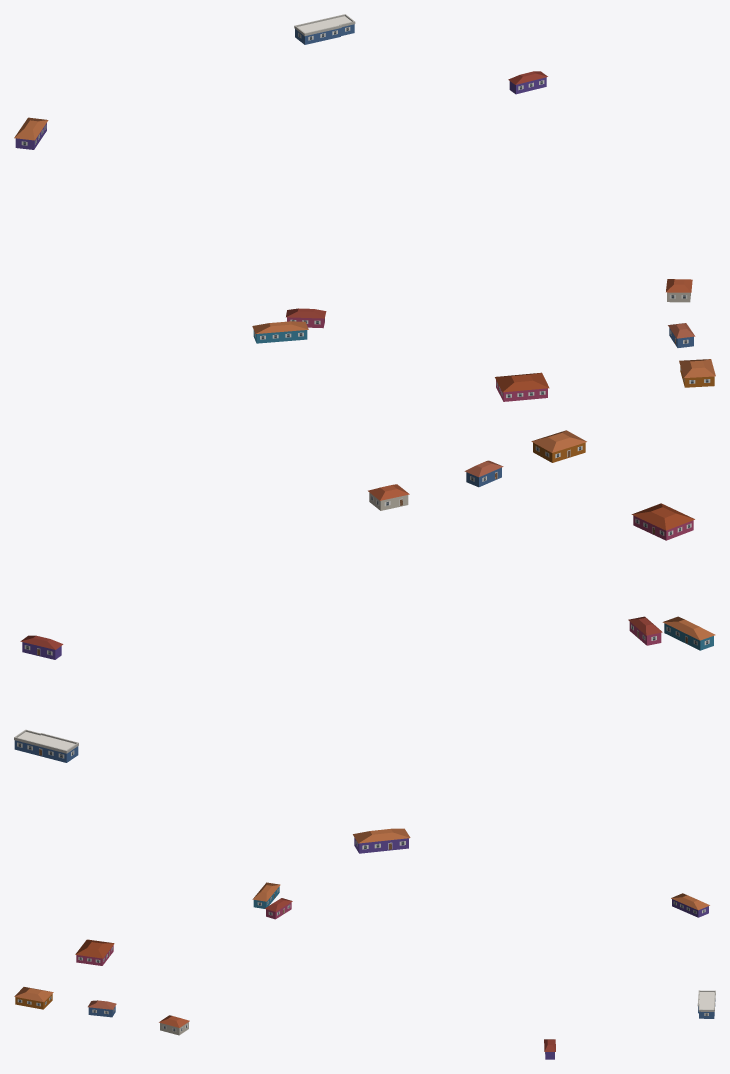
File: msb_sannicolas_13_21.glb
The picture shows the model from 3 angles, top to bottom: view 1: azimuth 30°, elevation 25°; view 2: azimuth 150°, elevation 25°; view 3: azimuth 270°, elevation 25°; orthographic projection. The views are drawn at different scales.
Visible parts, largest first — view 1: msb_sannicolas_13_21_lod0; view 2: msb_sannicolas_13_21_lod0; view 3: msb_sannicolas_13_21_lod0.
Part boxes in pixels (box(x1,y1,x2,y2)): msb_sannicolas_13_21_lod0: box(14, 14, 715, 401); msb_sannicolas_13_21_lod0: box(14, 430, 715, 853); msb_sannicolas_13_21_lod0: box(14, 882, 715, 1059).
Size of what is drawn, in the model's own units: 169 by 13.16 by 277.
Materials: 3 (1 with a texture image).
